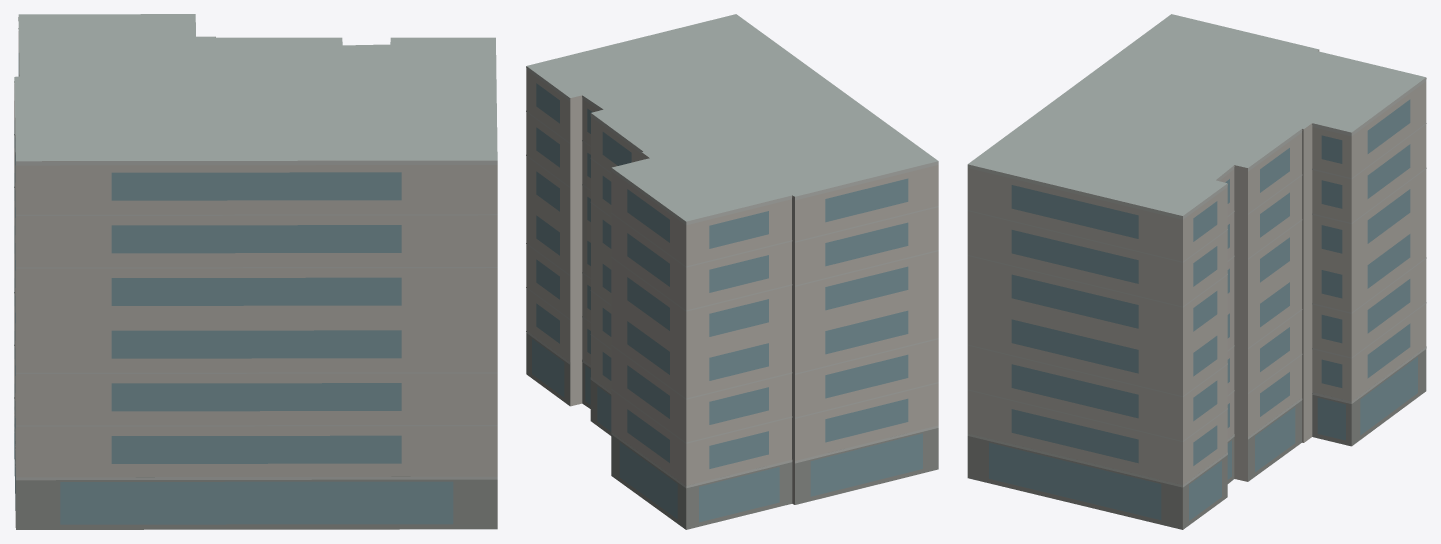
Rendered from survey-upis-32664798.glb.
3 renders of one model, left to right at view 1: azimuth 30°, elevation 25°; view 2: azimuth 150°, elevation 25°; view 3: azimuth 270°, elevation 25°, orthographic. The views are drawn at different scales.
Parts seen in each view (by area): view 1: survey-upis-32664798.tmp; view 2: survey-upis-32664798.tmp; view 3: survey-upis-32664798.tmp.
Part boxes in pixels (bbox=[...]): survey-upis-32664798.tmp: bbox=[14, 14, 497, 529]; survey-upis-32664798.tmp: bbox=[526, 14, 938, 529]; survey-upis-32664798.tmp: bbox=[967, 14, 1426, 529].
Size of the model in its own units: 28.4 by 20.55 by 27.25.
